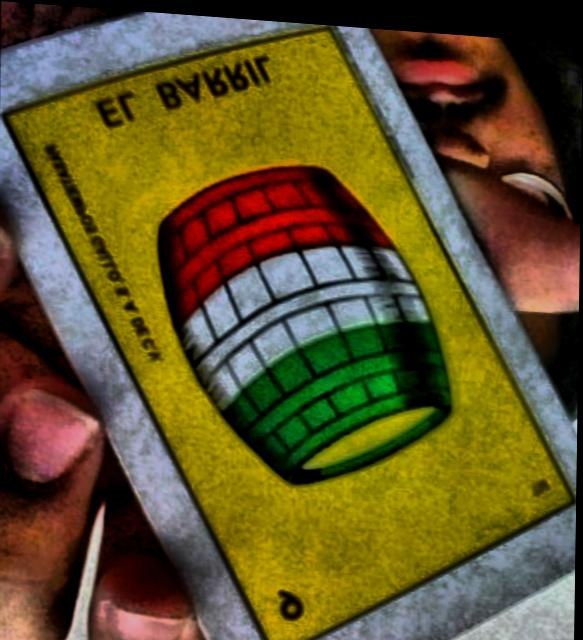El Barril: (4, 20, 576, 640)
